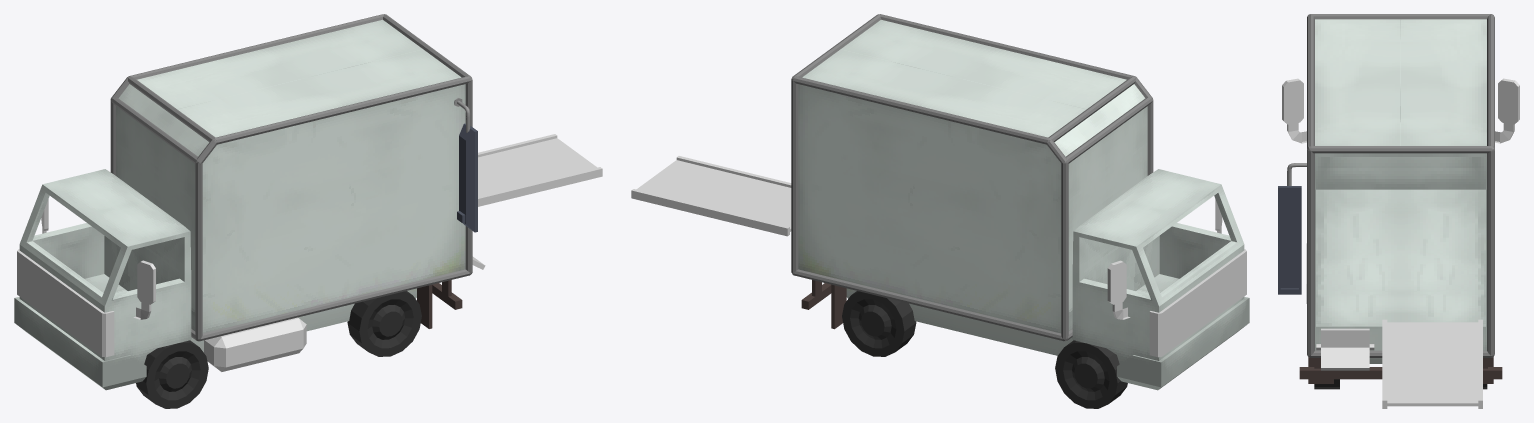
Rendered from TruckV2.glb.
The picture shows the model from 3 angles, left to right: view 1: azimuth 30°, elevation 25°; view 2: azimuth 150°, elevation 25°; view 3: azimuth 270°, elevation 25°; orthographic projection. The views are drawn at different scales.
Parts seen in each view (by area): view 1: Cube.015, Cube.006, Cylinder.001, Cube.021, Cube.017, Cube.013, Plane.001, Cube.012, Cube.014; view 2: Cube.015, Cube.006, Cube.021, Cylinder.001, Cube.017, Cube.012, Cube.014; view 3: Cube.015, Cube.021, Cube.006, Plane.001, Cube.012, Plane.002, Cube.014.
Boxes of the visible parts, <box> form: Cube.015: <box>14,19,465,390</box>; Cube.006: <box>110,14,472,341</box>; Cylinder.001: <box>136,291,421,408</box>; Cube.021: <box>478,134,602,206</box>; Cube.017: <box>17,249,114,357</box>; Cube.013: <box>204,317,306,371</box>; Plane.001: <box>457,123,477,232</box>; Cube.012: <box>41,199,155,319</box>; Cube.014: <box>417,280,462,328</box>; Cube.015: <box>798,19,1249,390</box>; Cube.006: <box>791,14,1153,341</box>; Cube.021: <box>631,156,791,236</box>; Cylinder.001: <box>842,291,1127,408</box>; Cube.017: <box>1149,249,1246,357</box>; Cube.012: <box>1107,199,1222,319</box>; Cube.014: <box>801,280,846,329</box>; Cube.015: <box>1315,19,1486,363</box>; Cube.021: <box>1382,319,1482,408</box>; Cube.006: <box>1307,14,1494,357</box>; Plane.001: <box>1278,186,1301,294</box>; Cube.012: <box>1282,78,1519,143</box>; Plane.002: <box>1316,328,1374,370</box>; Cube.014: <box>1299,357,1502,383</box>.
Size of the model in its own units: 39.07 by 18.34 by 14.38.
6 materials, 1 textured.
